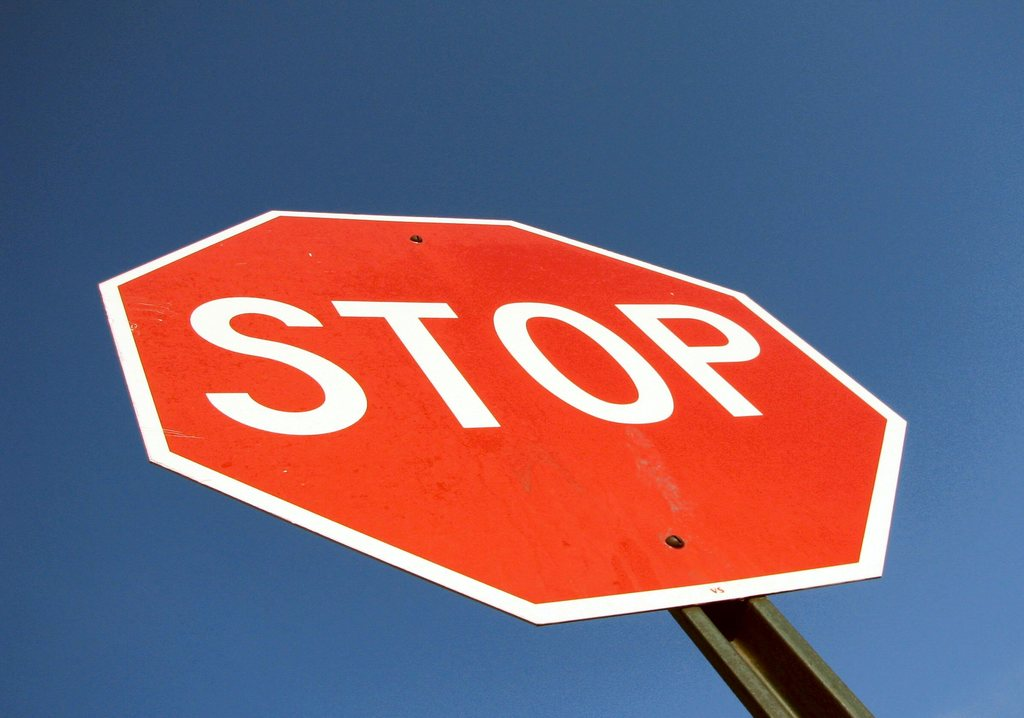stop: (87, 190, 918, 637)
